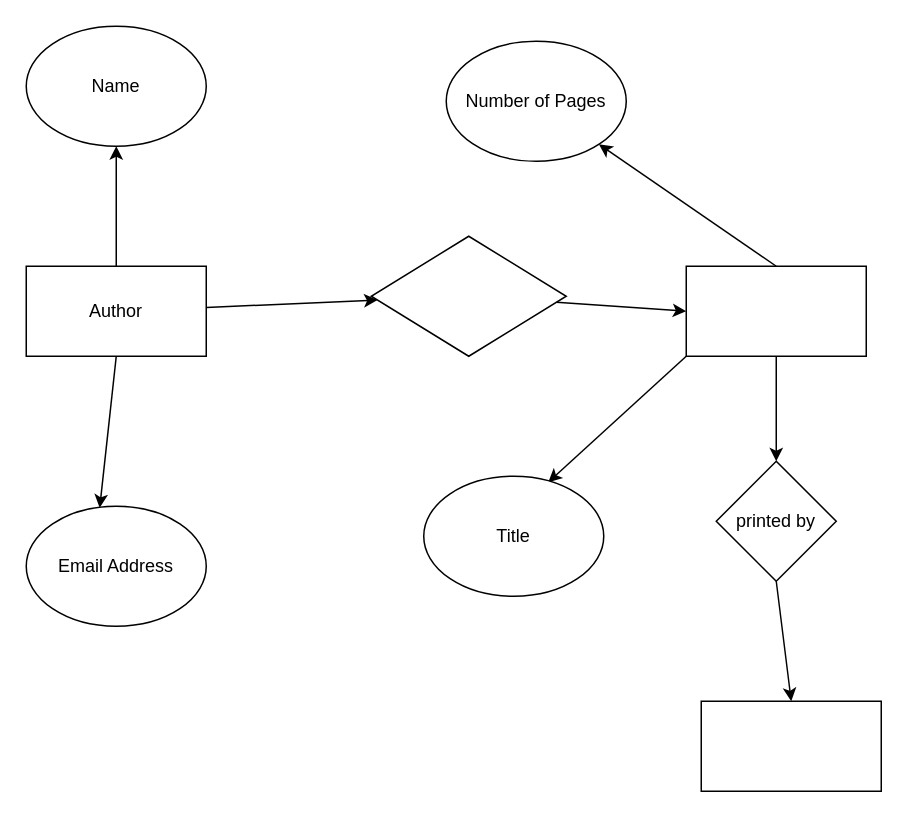
Image size: 908x818. Some labels were removed from this diagram. Each missing label, with the centre of its shape:
Books: the point at 775,310
Printer: the point at 790,745
writes: the point at 468,295
